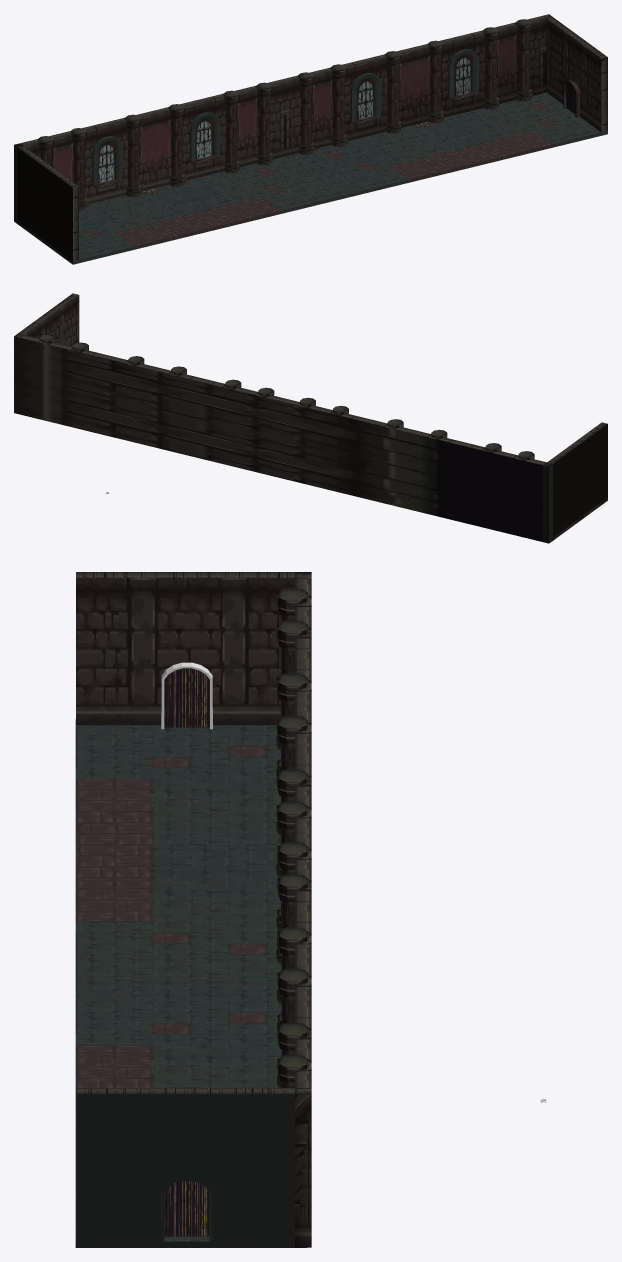
File: tutorial set enlarge.fbx
3 renders of one model, top to bottom at view 1: azimuth 30°, elevation 25°; view 2: azimuth 150°, elevation 25°; view 3: azimuth 270°, elevation 25°, orthographic. The views are drawn at different scales.
Visible parts, largest first — view 1: Plane.002, Plane.011, Plane.027, Plane.018, Plane.026, Plane.008, Plane.023, Plane.009, Plane.005, Plane.006, Plane.024, Plane.007 (+8 smaller); view 2: Plane.002; view 3: Plane.011, Plane.002, Cylinder.009, Cylinder.007, Plane.026, Plane.024, Plane.005, Plane.007, Plane.018, Plane.023, Plane.004.
Part boxes in pixels (<box>): Plane.002: <box>14,14,607,261</box>; Plane.011: <box>15,92,607,264</box>; Plane.027: <box>223,90,239,173</box>; Plane.018: <box>256,82,272,165</box>; Plane.026: <box>169,104,184,186</box>; Plane.008: <box>483,27,499,109</box>; Plane.023: <box>125,114,141,197</box>; Plane.009: <box>516,19,532,101</box>; Plane.005: <box>331,64,346,146</box>; Plane.006: <box>298,72,313,154</box>; Plane.024: <box>71,128,86,210</box>; Plane.007: <box>428,40,443,122</box>; Plane.002: <box>14,293,607,543</box>; Plane.011: <box>75,719,306,1247</box>; Plane.002: <box>76,572,311,1247</box>; Cylinder.009: <box>164,668,209,727</box>; Cylinder.007: <box>164,1181,209,1236</box>; Plane.026: <box>276,715,308,877</box>; Plane.024: <box>276,619,308,773</box>; Plane.005: <box>277,873,308,1027</box>; Plane.007: <box>277,968,308,1023</box>; Plane.018: <box>276,800,308,963</box>; Plane.023: <box>276,672,308,835</box>; Plane.004: <box>277,926,308,1080</box>.
Bounding box in the file's own units: 3152 × 451 × 1200.
